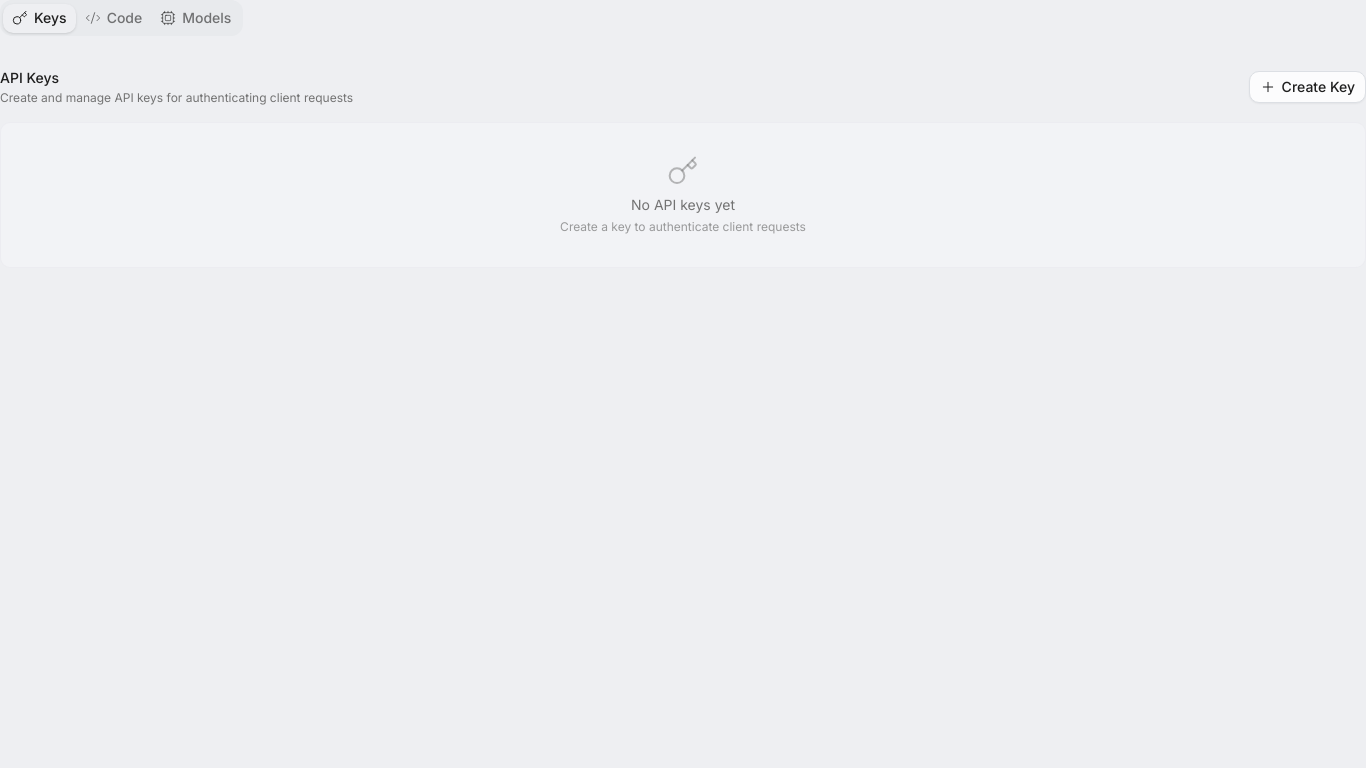
Scenario: CreateKeyDialog › success → shows created key for copy
This screenshot has width=1366, height=768.
Step 1. Click the button "Create Key" → (1307, 87), box [1249,71,1365,103]
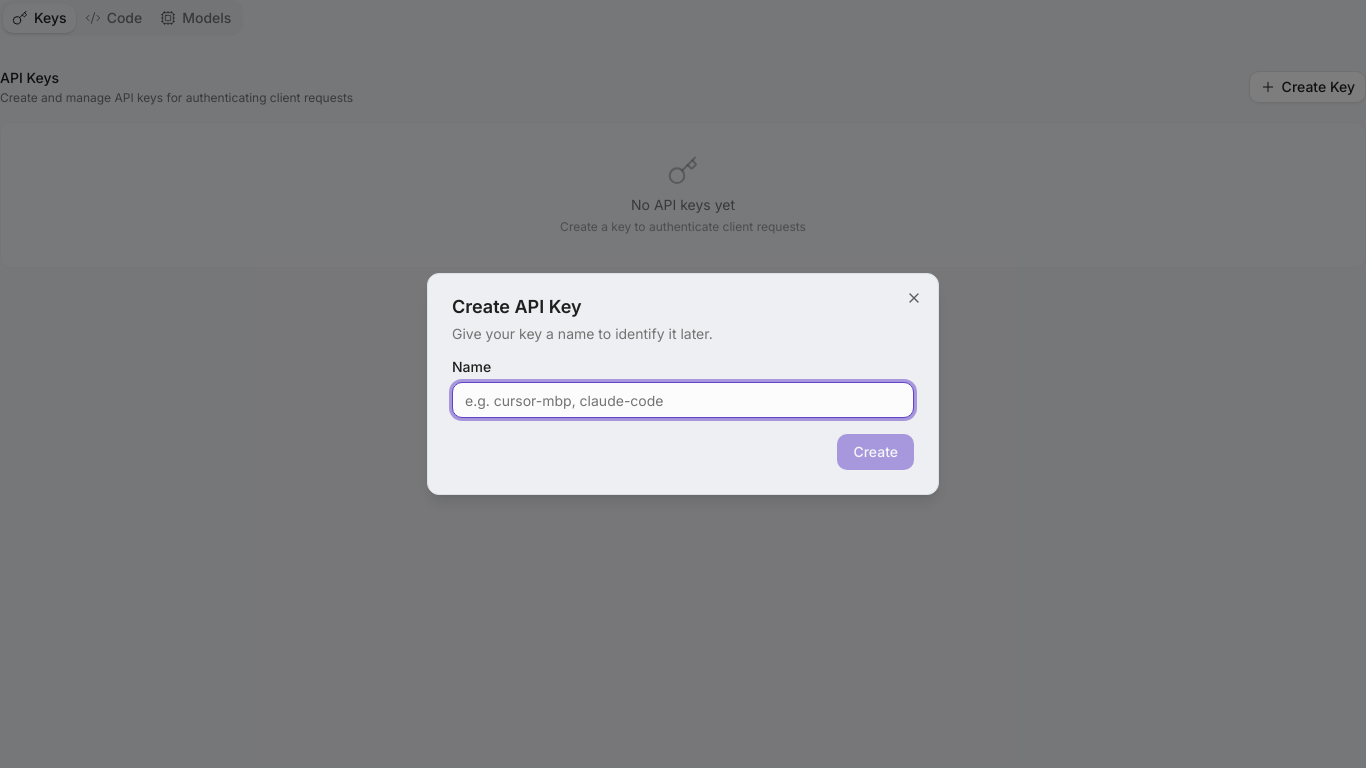
Step 2. Type "my-key" into the field with placeholder "e.g. cursor-mbp, claude-code" → (683, 400), box [452,382,914,418]
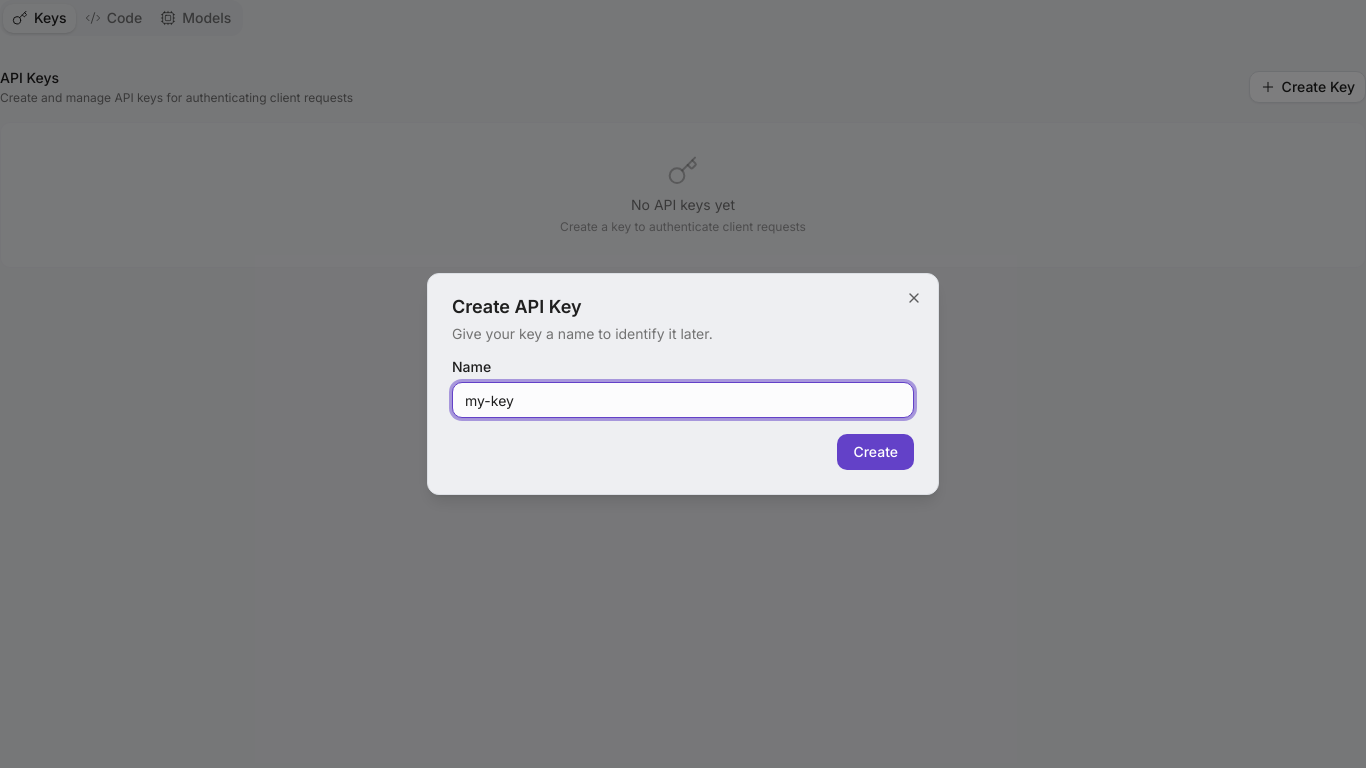
Step 3. Click the button "Create" → (876, 452), box [837,434,914,470]
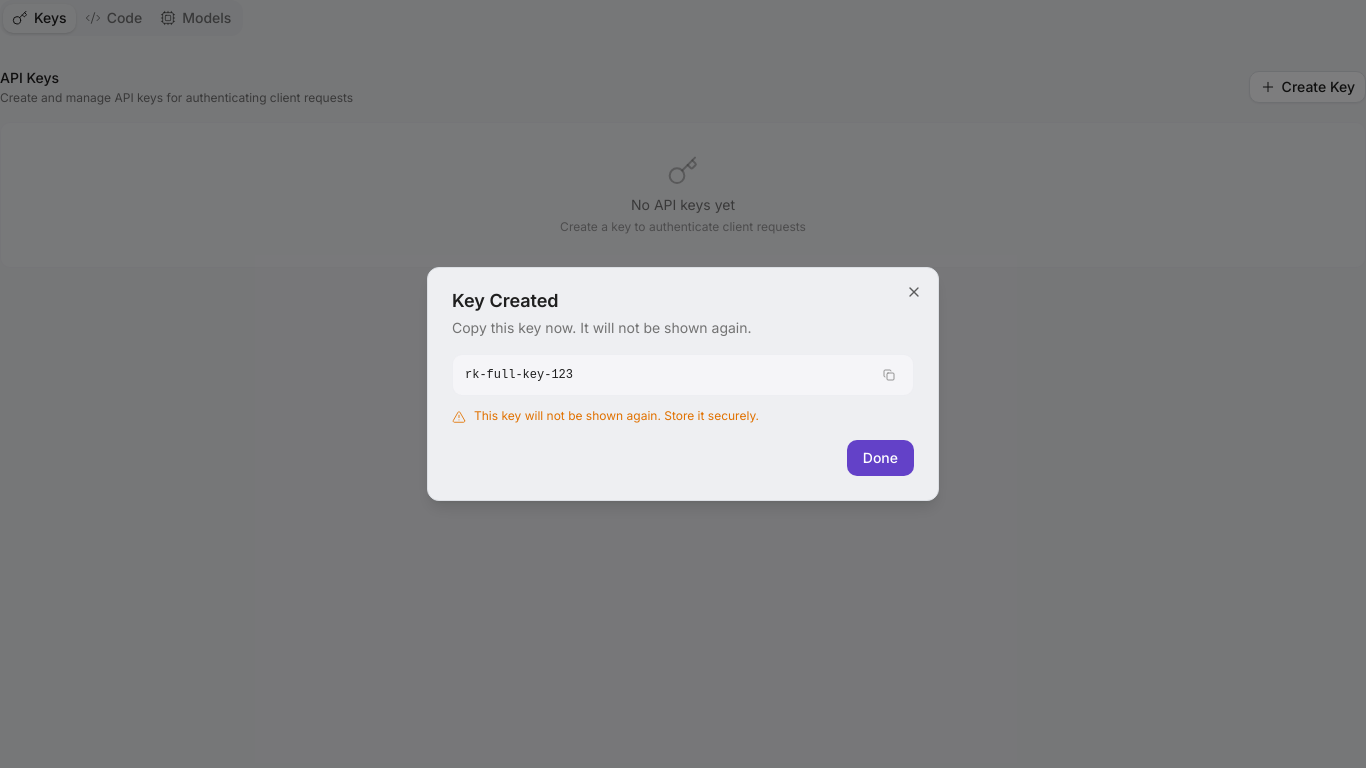
Check: the text "rk-full-key-123" is shown, box [465,368,573,382]
